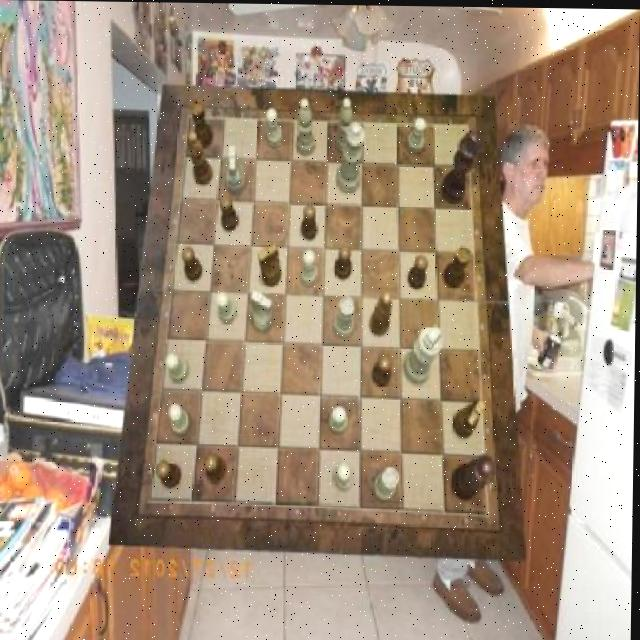bishop: (187, 131, 212, 185), (369, 290, 392, 335)
black-bishop: (441, 128, 480, 203)
black-king: (453, 398, 486, 438), (258, 241, 282, 287)
black-knight: (182, 247, 204, 282), (409, 254, 430, 288), (220, 195, 239, 231), (158, 461, 182, 488), (300, 204, 318, 240), (206, 453, 229, 481), (335, 244, 353, 279), (374, 354, 393, 386)
black-pawn: (453, 453, 498, 500)
black-queen: (443, 243, 471, 286), (189, 99, 213, 148)
black-rook: (297, 97, 316, 155), (336, 96, 354, 151)
white-bishop: (404, 325, 444, 385)
white-king: (225, 146, 246, 194), (251, 289, 274, 332)
white-knight: (264, 109, 282, 148), (216, 290, 237, 323), (169, 404, 191, 435), (166, 353, 190, 381), (407, 117, 426, 152), (301, 250, 319, 286), (335, 463, 355, 490), (330, 406, 349, 433)
white-pawn: (337, 121, 365, 194)
white-queen: (374, 466, 401, 501), (334, 298, 355, 338)
